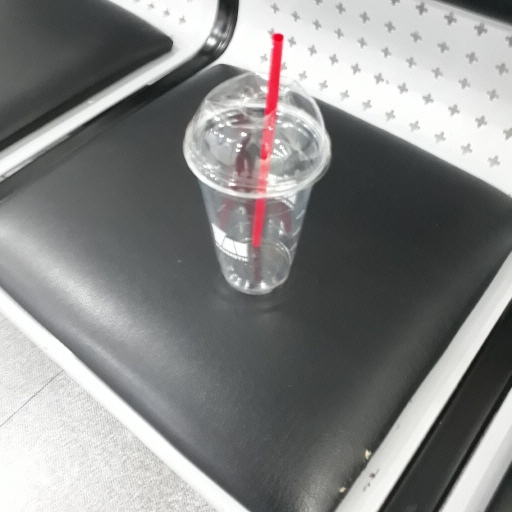Plastic_2: (182, 34, 334, 292)
